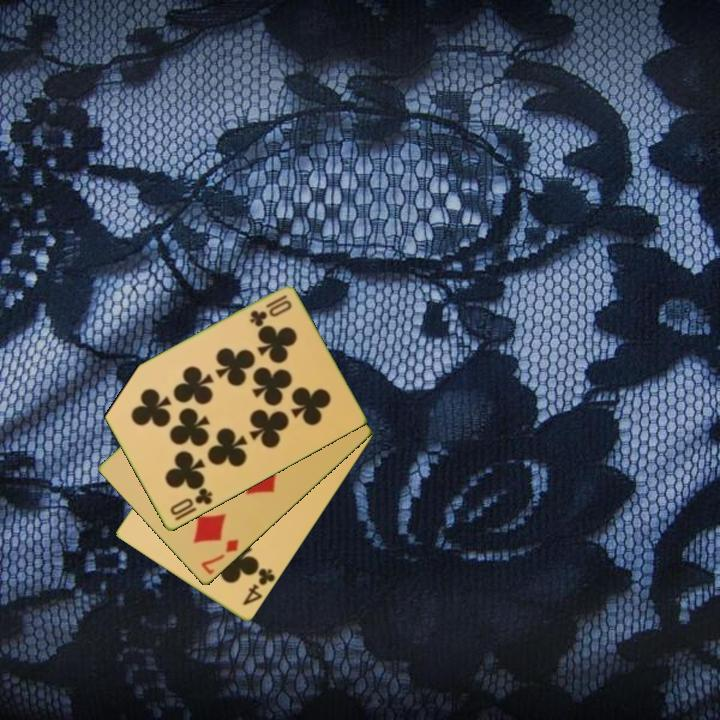10c: (166, 484, 215, 519), (246, 291, 290, 329)
4c: (239, 565, 278, 609)
7d: (197, 536, 242, 578)
